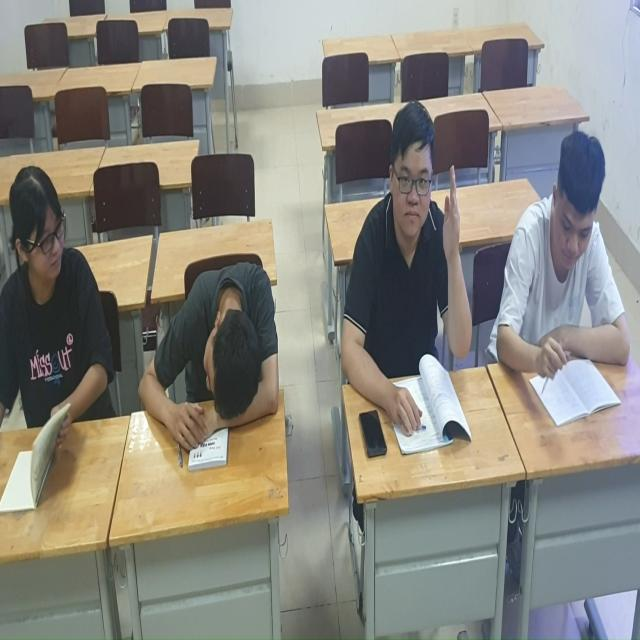raise_hand: (325, 111, 490, 455)
read: (496, 116, 634, 427), (1, 177, 114, 536)
sleep: (139, 232, 283, 473)
